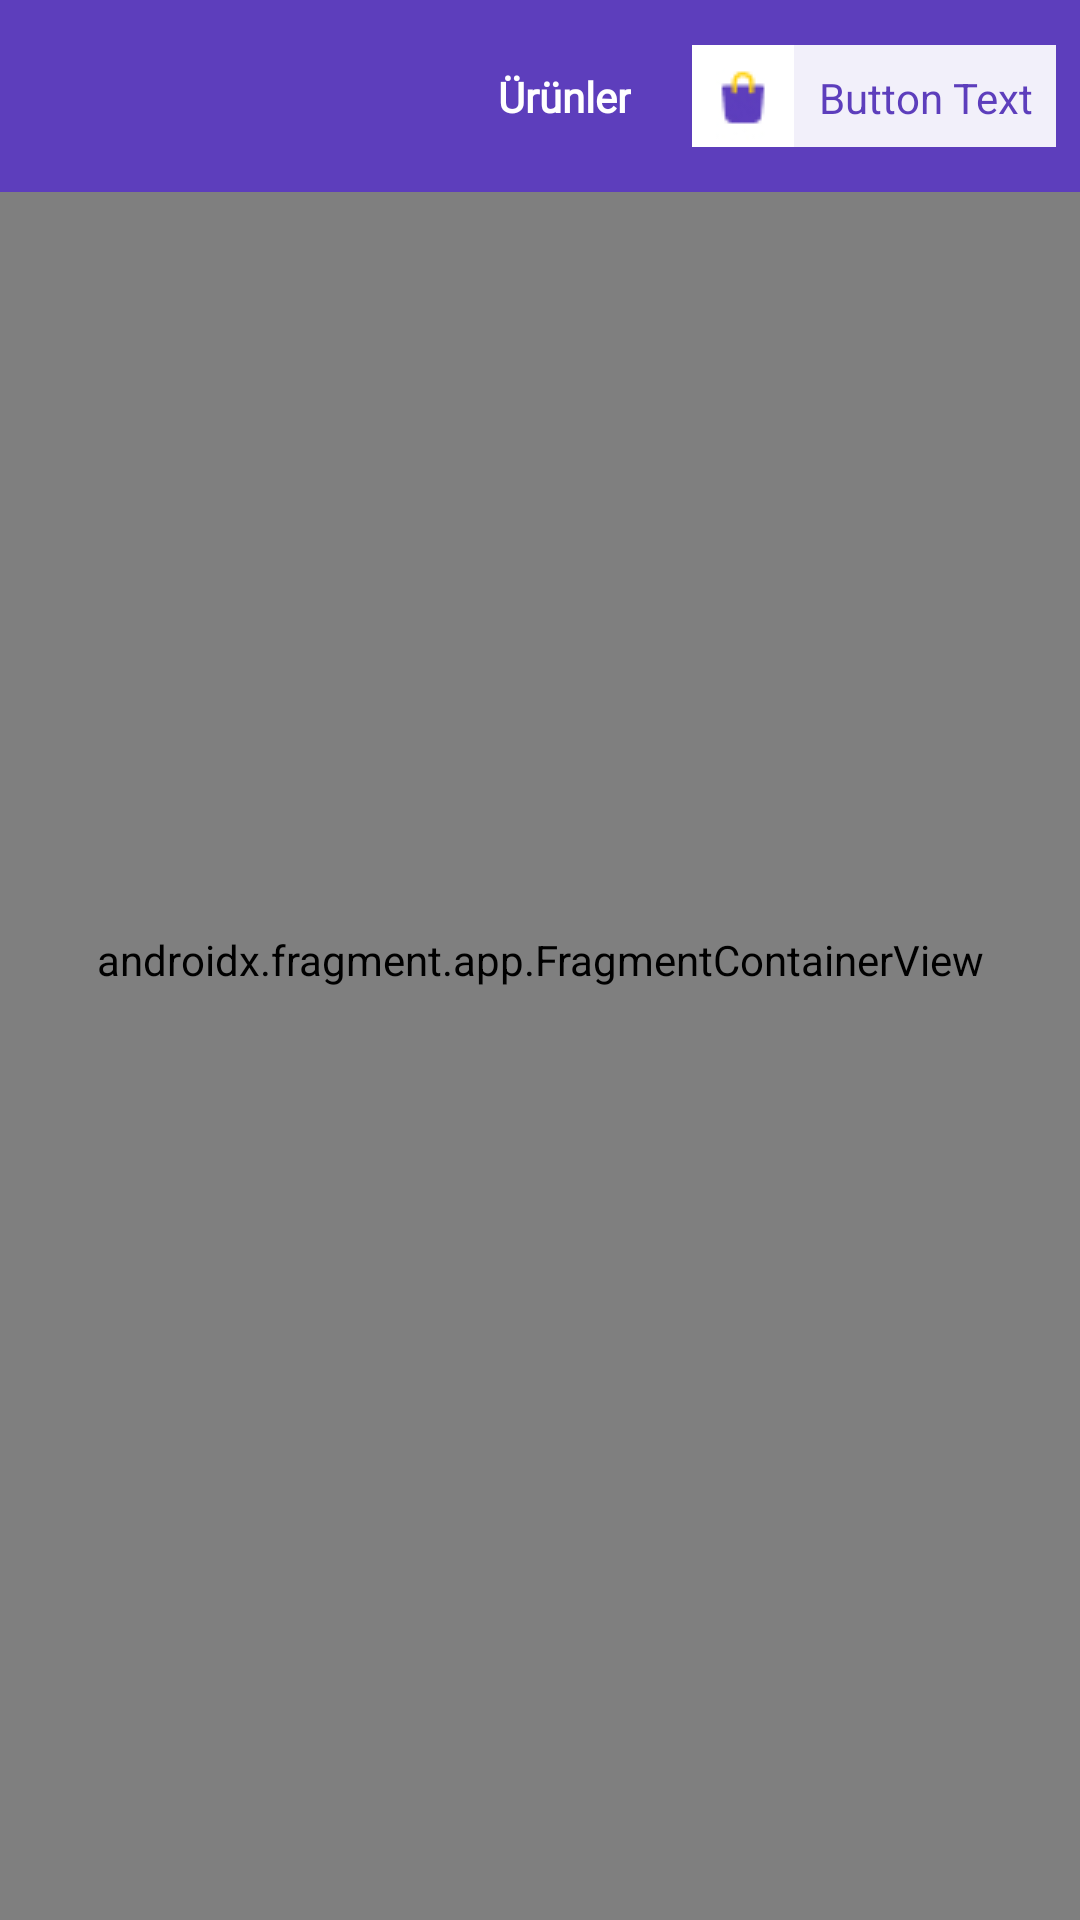

Icon click points for this 1080*1920 phone screenshot, format (x=x, y=y):
go to basket: (x=743, y=96)
